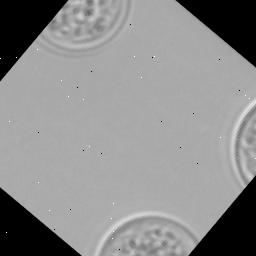picoshell: (35, 0, 133, 57), (92, 210, 201, 256), (229, 97, 256, 190)
